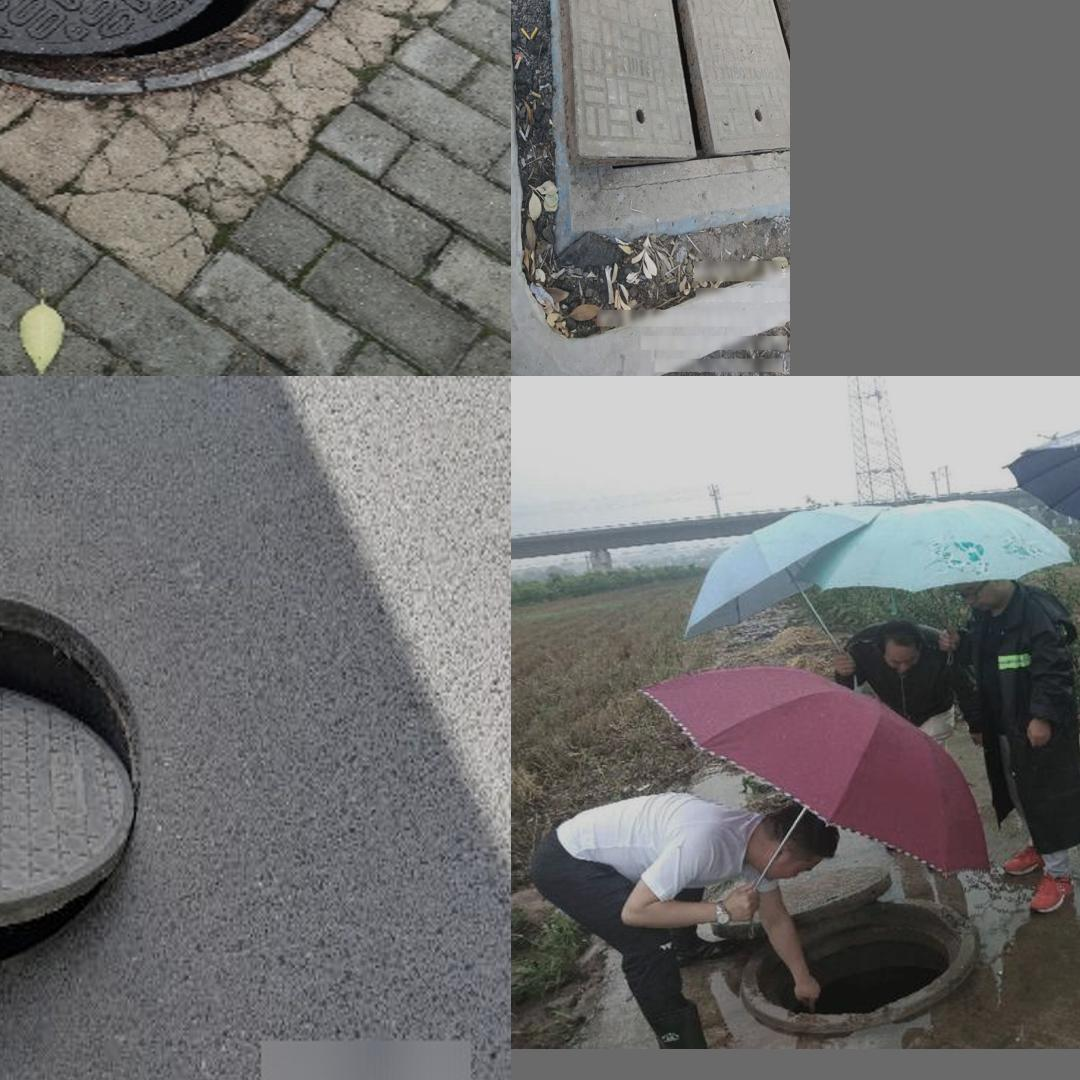uncovered: (693, 841, 1001, 1034), (0, 594, 142, 968), (548, 0, 789, 173), (0, 0, 360, 96)
